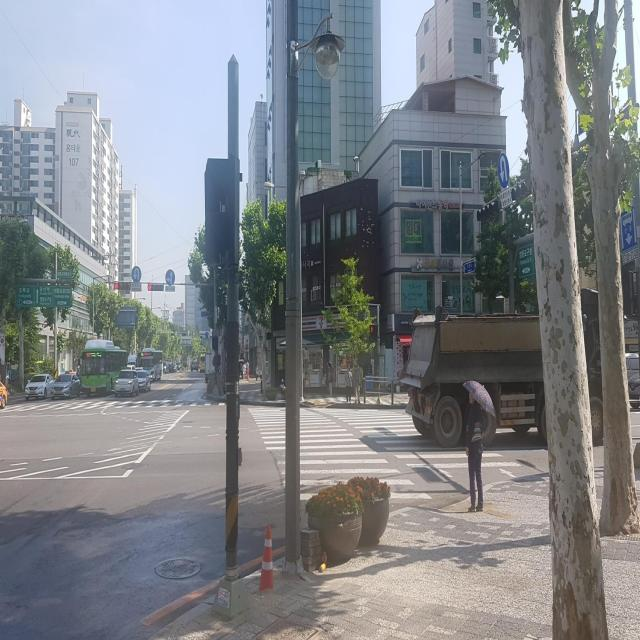빨간불: (369, 324, 375, 343)
횡단보도: (244, 402, 520, 496), (0, 395, 224, 412)
